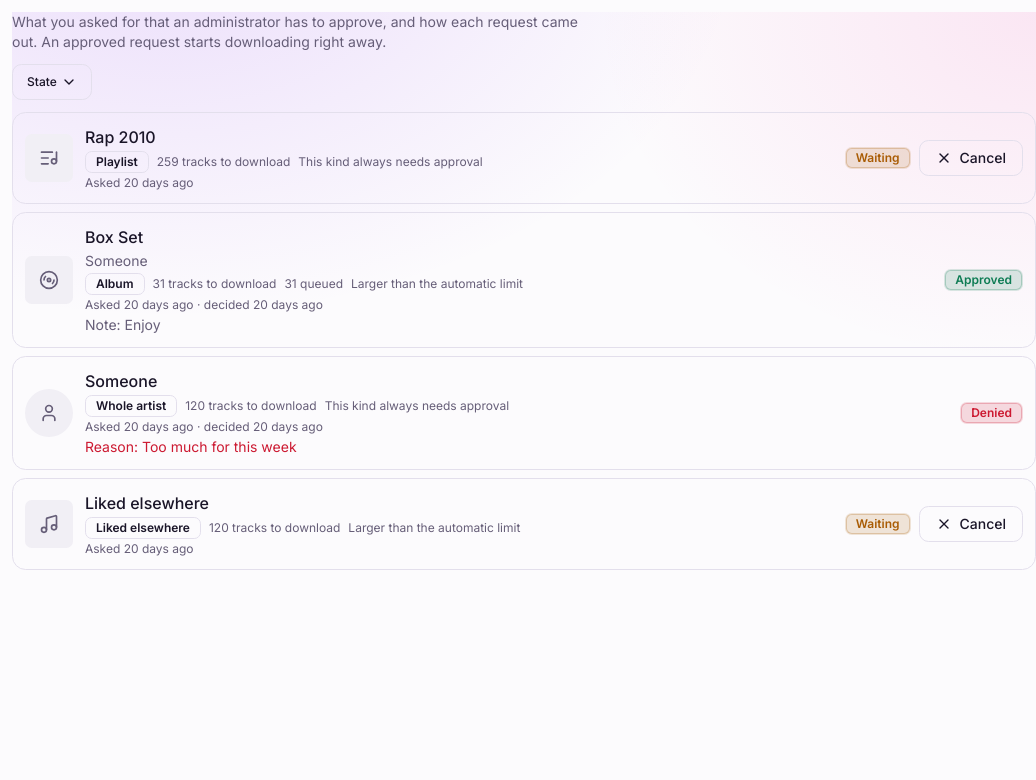
Test: My requests › only a request that waits can be cancelled; cancelling says so and the list is read again
Click the button with aria-label "Cancel the request for Rap 2010". click: (971, 158)
box: [918,140,1023,176]
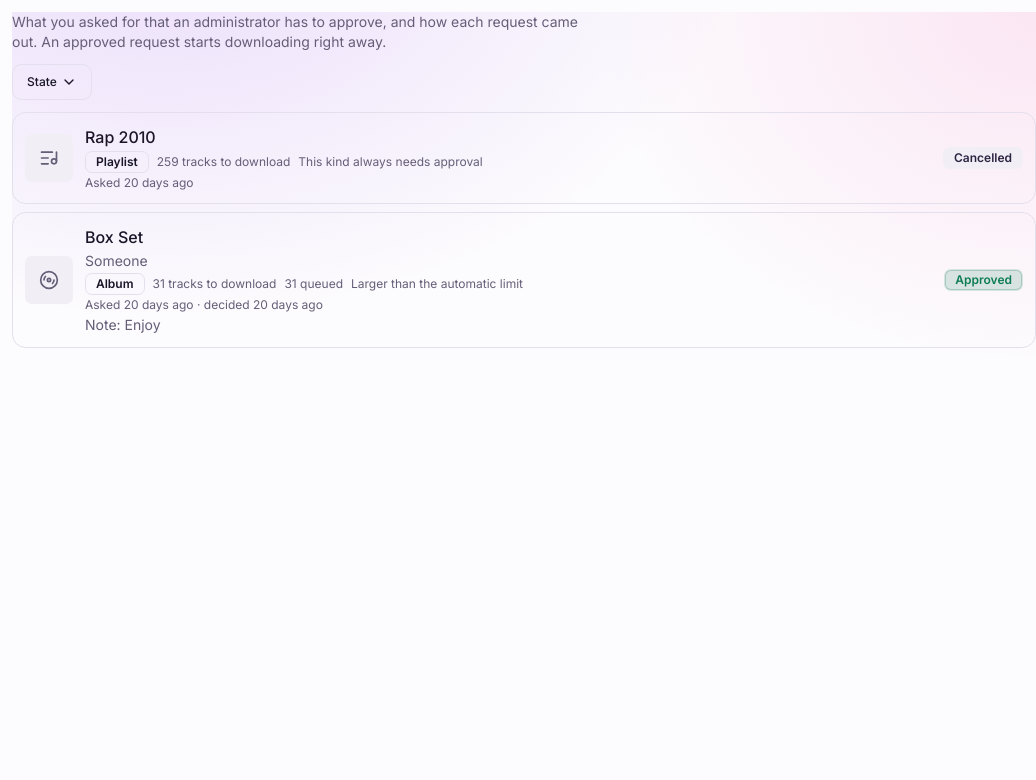
Expected: the text "Cancelled" is shown, [943,147,1023,169]
